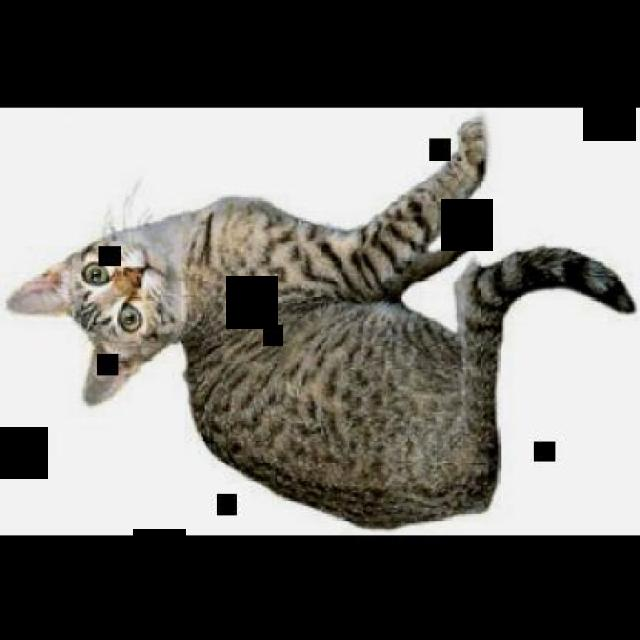unauthorized: (5, 116, 637, 530)
